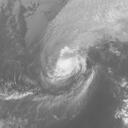cyclone: (39, 45, 88, 89)
